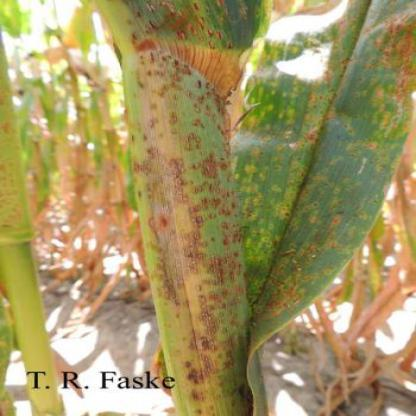Corn rust leaf: (235, 2, 414, 344)
